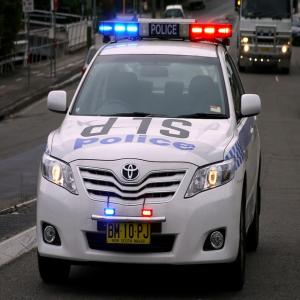Vehicle-registration-plate: (98, 222, 159, 258)
